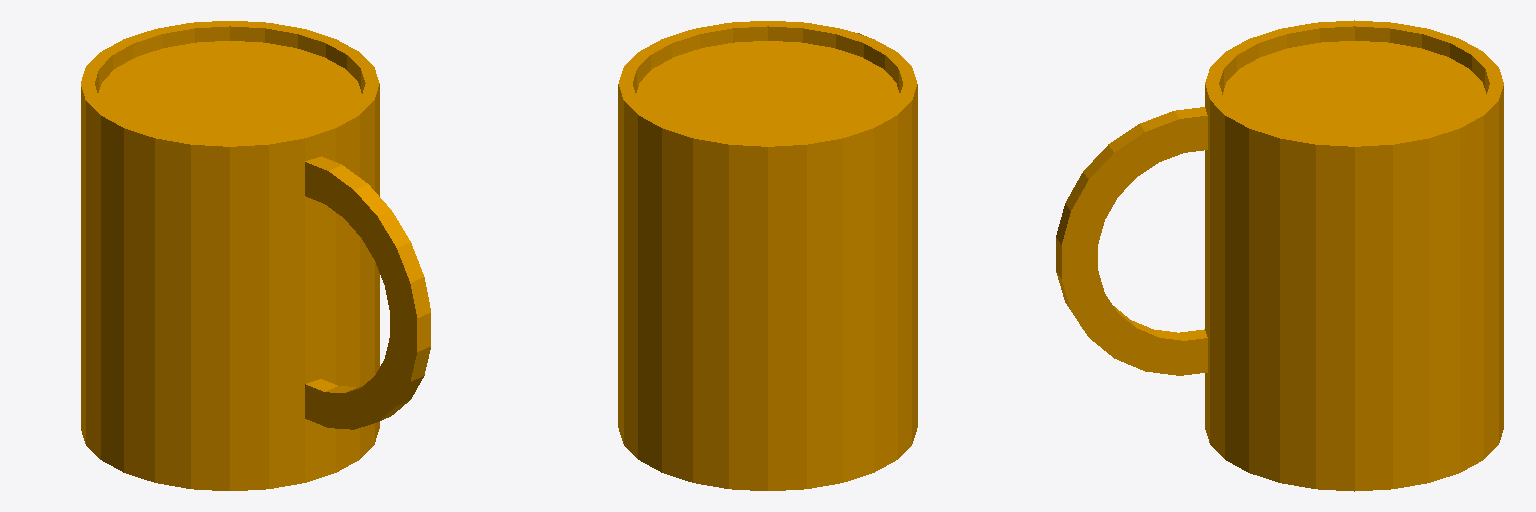
robot.urdf — obj_3:
<?xml version="1.0"?>
<robot name="obj_3">
  <link name="obj_3">
    <visual>
      <origin xyz="0.0 0.0 0.0" rpy="0 0 0"/>
      <geometry>
        <mesh filename="../mesh/ncf_mug_cupholder/obj_assets/3/obj_collision.obj" scale="1 1 1"/>
      </geometry>
    </visual>
    <collision>
      <origin xyz="0.0 0.0 0.0" rpy="0 0 0"/>
      <geometry>
        <mesh filename="../mesh/ncf_mug_cupholder/obj_assets/3/obj_collision.obj" scale="1 1 1"/>
      </geometry>
      <sdf resolution="512"/>
    </collision >    
    <inertial>
      <mass value="0.102"/>
      <inertia ixx="0.0001" ixy="0.0" ixz="0.0" iyy="0.0001" iyz="0.0" izz="0.0001"/>
    </inertial>
  </link>
</robot>

--- Facts derived from the render (not from the file) ---
3 views of the same robot in one strip: view 1: azimuth 30°, elevation 25°; view 2: azimuth 150°, elevation 25°; view 3: azimuth 270°, elevation 25° (orthographic).
Robot: obj_3 — 1 links, 0 joints (none); root link obj_3; default pose: all joints at 0.
Links seen in each view (by area): view 1: obj_3; view 2: obj_3; view 3: obj_3.
Link boxes in pixels (x1,y1,x2,y2): obj_3: (81, 21, 430, 490); obj_3: (618, 21, 917, 490); obj_3: (1056, 20, 1503, 491).
Size in the robot's own frame: 0.0775 by 0.1162 by 0.0986 metres.
1 mesh visuals loaded from 1 distinct referenced files (1 OBJ).